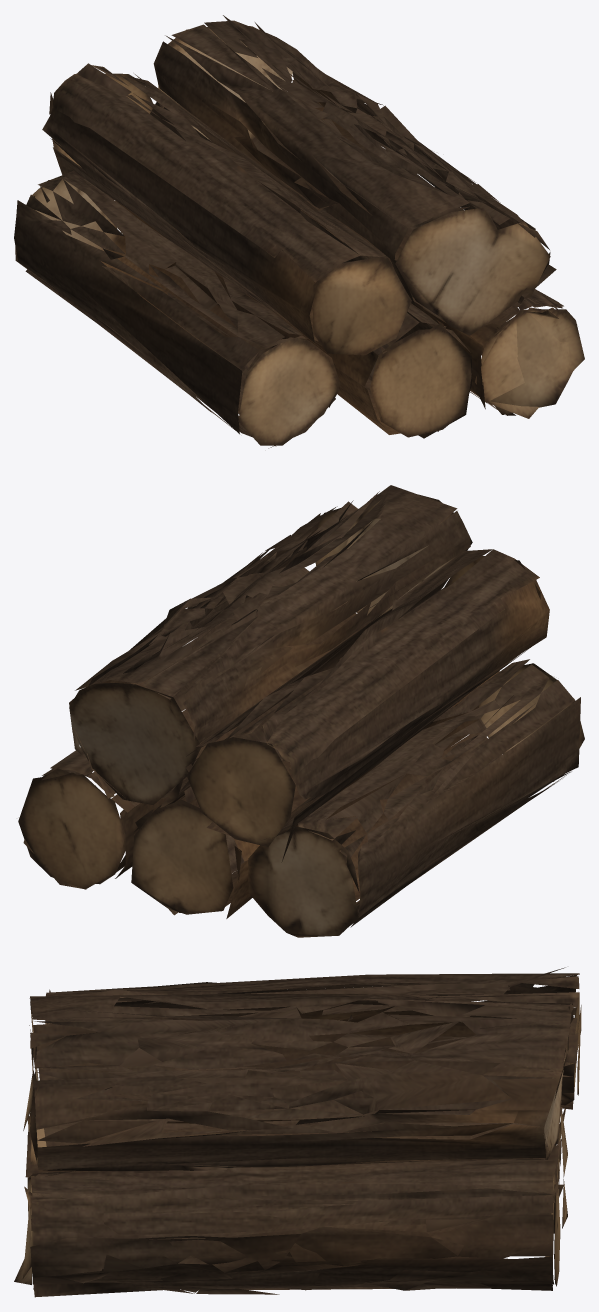
Rendered from lod-performance.glb.
3 renders of one model, top to bottom at view 1: azimuth 30°, elevation 25°; view 2: azimuth 150°, elevation 25°; view 3: azimuth 270°, elevation 25°, orthographic. The views are drawn at different scales.
Visible parts, largest first — view 1: firewood-pile.001; view 2: firewood-pile.001; view 3: firewood-pile.001.
Part boxes in pixels (<box>): firewood-pile.001: <box>14,15,584,448</box>; firewood-pile.001: <box>18,485,584,937</box>; firewood-pile.001: <box>14,967,581,1297</box>.
Bounding box in the file's own units: 1.08 × 0.7273 × 1.51.
1 material, 1 textured.
